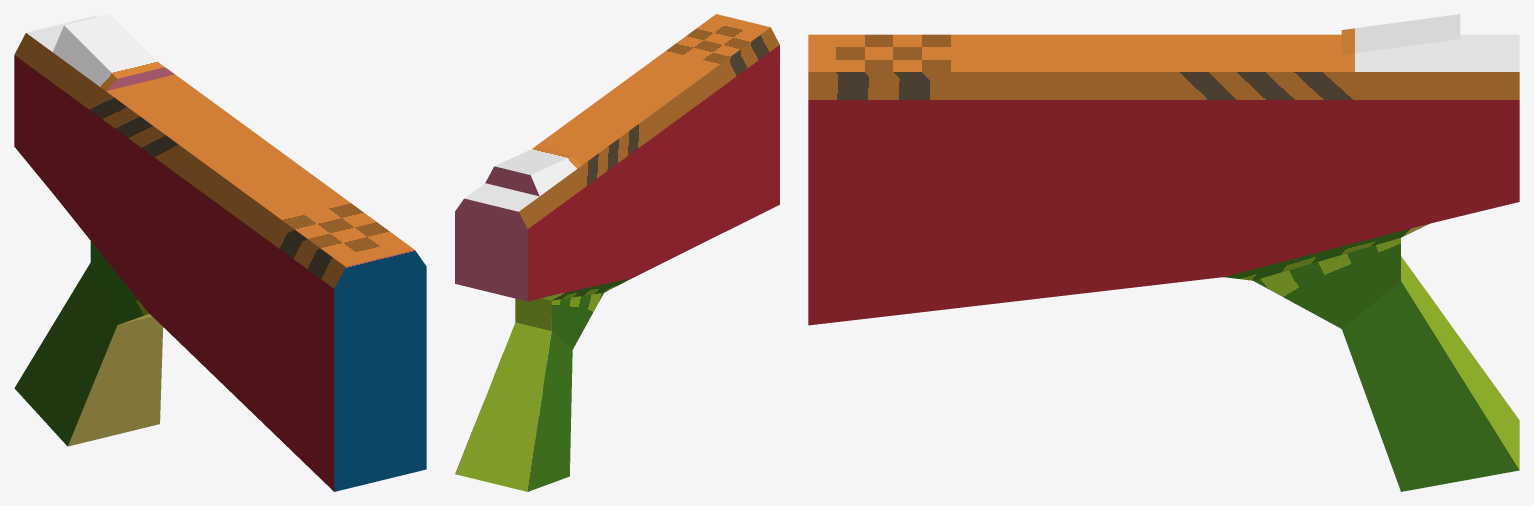
File: Gun2.obj
The picture shows the model from 3 angles, left to right: view 1: azimuth 30°, elevation 25°; view 2: azimuth 150°, elevation 25°; view 3: azimuth 270°, elevation 25°; orthographic projection. The views are drawn at different scales.
Parts seen in each view (by area): view 1: Cube; view 2: Cube; view 3: Cube.
Part boxes in pixels (bbox=[...]): Cube: bbox=[14, 14, 426, 491]; Cube: bbox=[455, 14, 779, 491]; Cube: bbox=[808, 14, 1519, 491].
Size of the model in its own units: 0.2 by 0.82 by 1.2.
